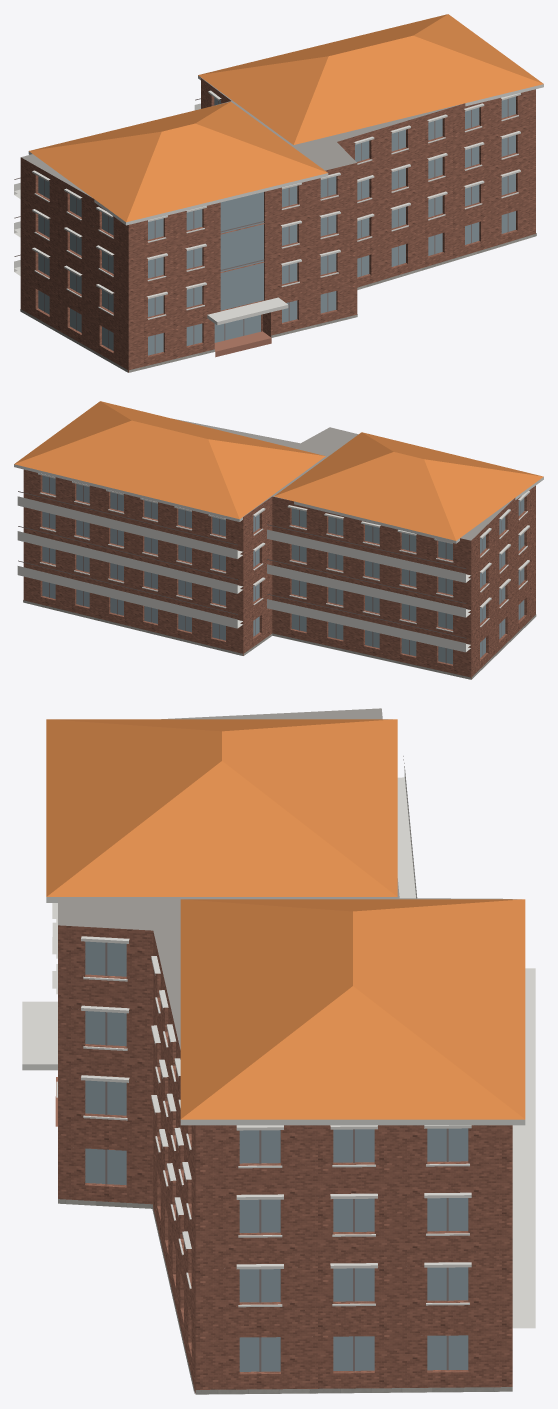
3 renders of one model, top to bottom at view 1: azimuth 30°, elevation 25°; view 2: azimuth 150°, elevation 25°; view 3: azimuth 270°, elevation 25°, orthographic. The views are drawn at different scales.
Parts seen in each view (by area): view 1: osm136187761__wall, osm136187761__roofAccent, osm136187761__glass, osm136187761__trim, osm136187761__roof, osm136187761__frame, osm136187761__base, osm136187761__canopy, osm136187761__entranceThreshold_0; view 2: osm136187761__wall, osm136187761__roofAccent, osm136187761__trim, osm136187761__glass, osm136187761__frame, osm136187761__roof, osm136187761__base; view 3: osm136187761__roofAccent, osm136187761__wall, osm136187761__glass, osm136187761__trim, osm136187761__roof, osm136187761__base, osm136187761__canopy, osm136187761__frame.
Boxes of the visible parts, x1,y1,x2,y2 form: osm136187761__wall: (20,78,535,372); osm136187761__roofAccent: (29,14,543,222); osm136187761__glass: (38,96,515,355); osm136187761__trim: (14,75,543,319); osm136187761__roof: (21,77,461,372); osm136187761__frame: (14,98,508,353); osm136187761__base: (20,233,536,372); osm136187761__canopy: (207,297,288,325); osm136187761__entranceThreshold_0: (214,331,271,357); osm136187761__wall: (23,469,535,679); osm136187761__roofAccent: (14,401,543,540); osm136187761__trim: (14,464,543,652); osm136187761__glass: (42,475,524,664); osm136187761__frame: (18,477,520,663); osm136187761__roof: (174,419,513,679); osm136187761__base: (23,600,536,679); osm136187761__roofAccent: (46,719,525,1119); osm136187761__wall: (58,925,512,1393); osm136187761__glass: (85,941,468,1371); osm136187761__trim: (46,766,535,1328); osm136187761__roof: (58,708,512,1394); osm136187761__base: (58,1199,512,1394); osm136187761__canopy: (22,1001,57,1070); osm136187761__frame: (105,756,448,1371).
Size of the model in its own units: 38.12 by 15.08 by 20.09.
10 materials, 2 textured.
